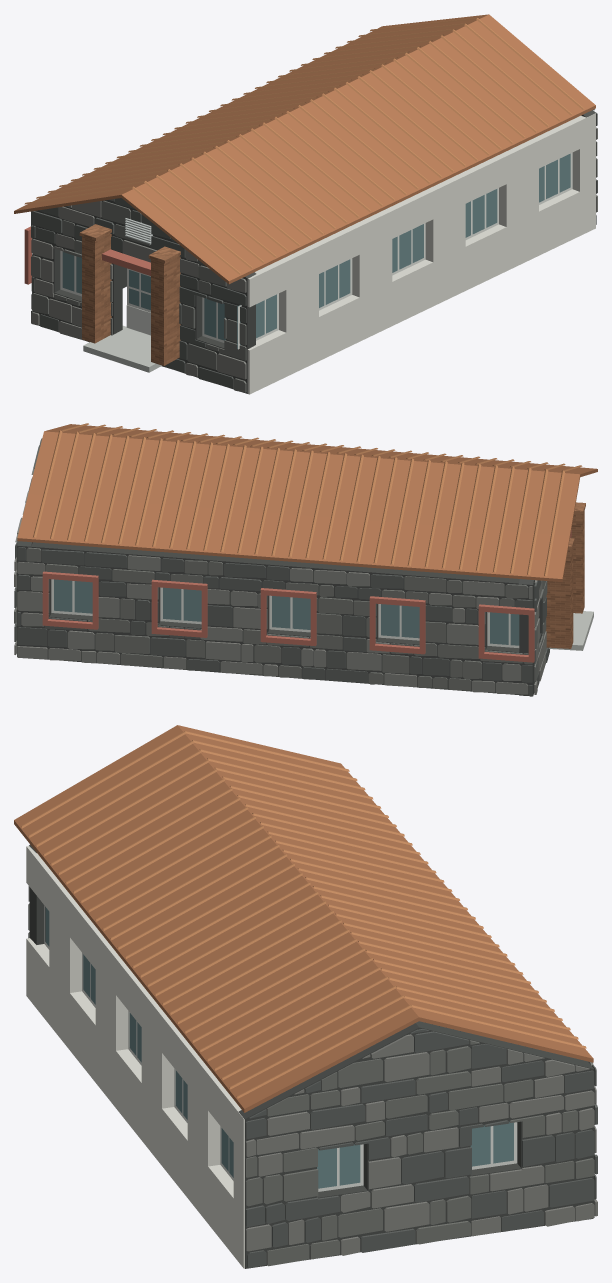
3 views of the same model, one above another, from view 1: azimuth 30°, elevation 25°; view 2: azimuth 150°, elevation 25°; view 3: azimuth 270°, elevation 25° (orthographic). The views are drawn at different scales.
Parts seen in each view (by area): view 1: heritage__roof, heritage__wall, heritage__roof-tile, heritage__glass, heritage__brick, heritage__stone-1, heritage__stone-3, heritage__stone-2, heritage__stone, heritage__frame, heritage__threshold-entry, heritage__red (+1 smaller); view 2: heritage__roof, heritage__stone-3, heritage__roof-tile, heritage__stone-2, heritage__stone-1, heritage__stone, heritage__red, heritage__glass, heritage__brick, heritage__frame, heritage__threshold-entry; view 3: heritage__roof, heritage__roof-tile, heritage__wall, heritage__stone-1, heritage__stone-3, heritage__stone-2, heritage__stone, heritage__glass, heritage__frame.
Boxes of the visible parts, x1=… form: heritage__roof: x1=14, y1=14, x2=595, y2=284; heritage__wall: x1=247, y1=113, x2=595, y2=394; heritage__roof-tile: x1=24, y1=17, x2=584, y2=274; heritage__glass: x1=62, y1=153, x2=570, y2=348; heritage__brick: x1=79, y1=224, x2=180, y2=365; heritage__stone-1: x1=31, y1=109, x2=597, y2=388; heritage__stone-3: x1=31, y1=127, x2=597, y2=379; heritage__stone-2: x1=31, y1=141, x2=597, y2=392; heritage__stone: x1=33, y1=110, x2=595, y2=393; heritage__frame: x1=60, y1=152, x2=572, y2=349; heritage__threshold-entry: x1=83, y1=325, x2=161, y2=372; heritage__red: x1=24, y1=226, x2=150, y2=284; heritage__roof: x1=17, y1=424, x2=597, y2=581; heritage__stone-3: x1=14, y1=492, x2=546, y2=694; heritage__roof-tile: x1=33, y1=423, x2=582, y2=576; heritage__stone-2: x1=14, y1=469, x2=547, y2=690; heritage__stone-1: x1=14, y1=438, x2=549, y2=696; heritage__stone: x1=17, y1=541, x2=543, y2=695; heritage__red: x1=42, y1=530, x2=571, y2=662; heritage__glass: x1=54, y1=579, x2=519, y2=645; heritage__brick: x1=546, y1=502, x2=585, y2=648; heritage__frame: x1=51, y1=579, x2=519, y2=647; heritage__threshold-entry: x1=548, y1=611, x2=593, y2=650; heritage__roof: x1=14, y1=725, x2=593, y2=1112; heritage__roof-tile: x1=21, y1=731, x2=586, y2=1098; heritage__wall: x1=26, y1=846, x2=244, y2=1268; heritage__stone-1: x1=28, y1=886, x2=597, y2=1268; heritage__stone-3: x1=29, y1=844, x2=597, y2=1255; heritage__stone-2: x1=28, y1=903, x2=594, y2=1266; heritage__stone: x1=29, y1=845, x2=593, y2=1268; heritage__glass: x1=45, y1=907, x2=513, y2=1188; heritage__frame: x1=44, y1=905, x2=517, y2=1191.
Size of the model in its own units: 18.41 by 5.67 by 13.08.
Materials: 13 (1 with a texture image).
